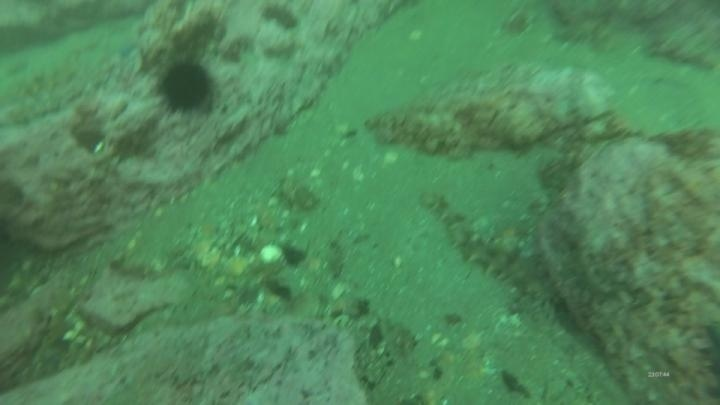echinus: (152, 55, 219, 119)
holothurian: (423, 185, 561, 311)
